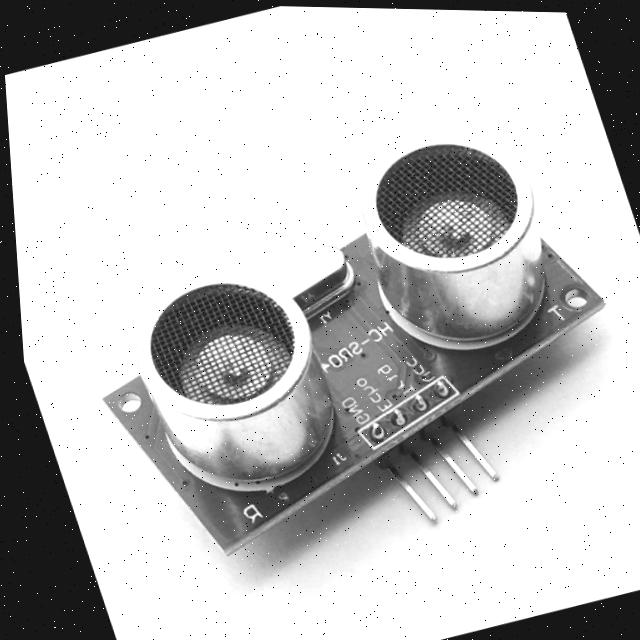Ultrasonic Sensor: (34, 97, 640, 640)
